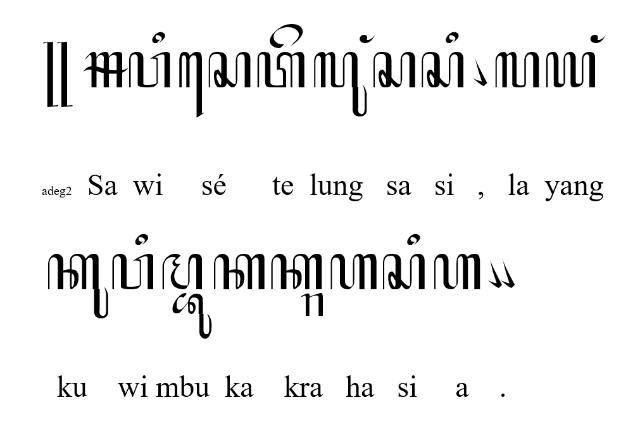S: (83, 52, 129, 88)
_bu: (172, 293, 212, 341)
adeg2: (43, 42, 73, 108)
e: (269, 24, 303, 48)
e1: (178, 52, 204, 118)
h: (330, 254, 378, 290), (434, 254, 481, 290)
i: (134, 232, 150, 246), (152, 32, 166, 44), (445, 31, 459, 43), (408, 233, 420, 245)
k: (213, 252, 265, 290), (271, 254, 323, 290)
kom: (472, 57, 488, 87), (488, 260, 502, 288), (501, 260, 515, 288)
ku: (48, 253, 108, 319)
l: (495, 52, 539, 86)
lu: (313, 51, 367, 117)
m: (161, 252, 203, 290)
ng: (360, 34, 376, 44), (590, 34, 606, 44)
r: (300, 294, 324, 316)
s: (382, 252, 426, 290), (422, 51, 464, 89), (208, 52, 252, 88), (372, 52, 416, 88)
t: (257, 52, 305, 88)
w: (112, 253, 154, 291), (129, 52, 171, 88)
y: (545, 52, 597, 88)
